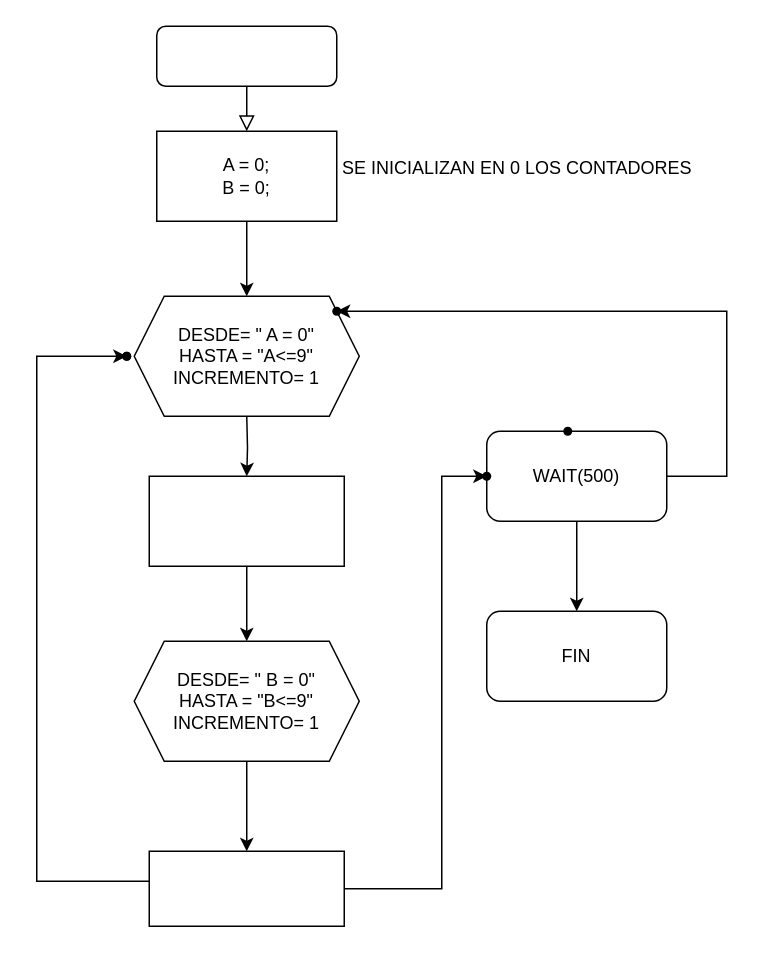
Some shapes in this 765 by 953 pixel diagram are drawn without their labels. Each missing label, with the centre of its shape:
DISPLAY-DECENAS_PUTVAL(A): point (246, 520)
DISPLAY-UNIDADES_PUTVAL(B): point (246, 888)
PRACTICA 1 EJERCICIO 2: point (246, 55)
